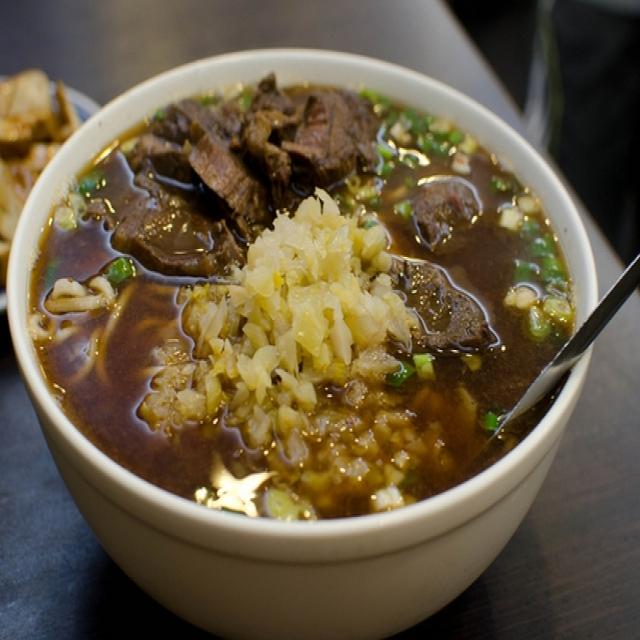面条主食: (18, 63, 580, 544)
